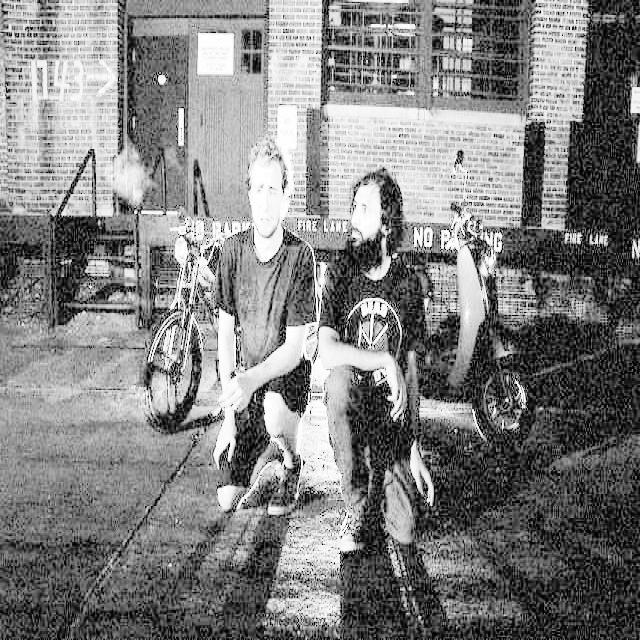Motorcycle: (417, 140, 533, 447), (137, 209, 225, 447)
Person: (324, 146, 439, 581), (210, 122, 327, 515)
